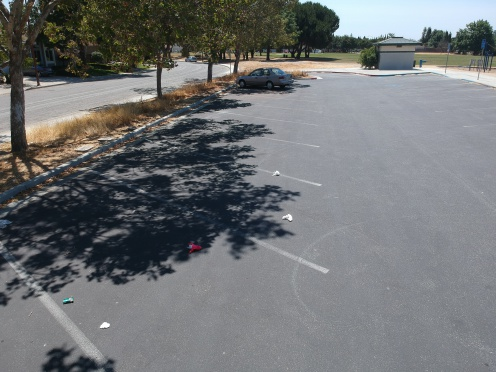plastic bag: (185, 239, 206, 254)
